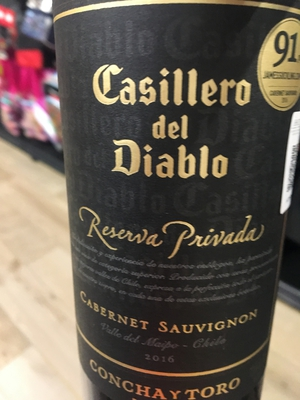casillero del diablo reserva privada cabernet sauvignon: (48, 4, 300, 389)
